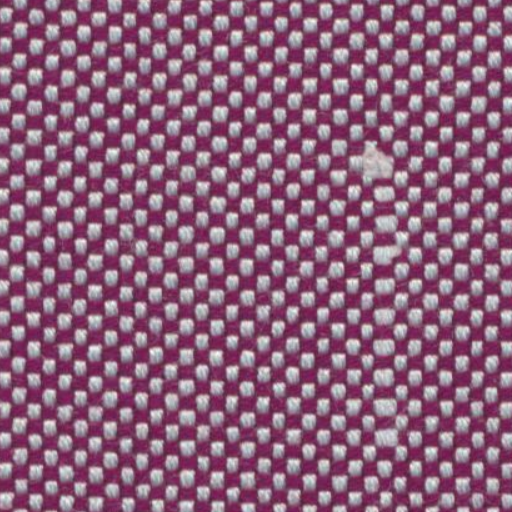DaiSha: (341, 135, 410, 475)
